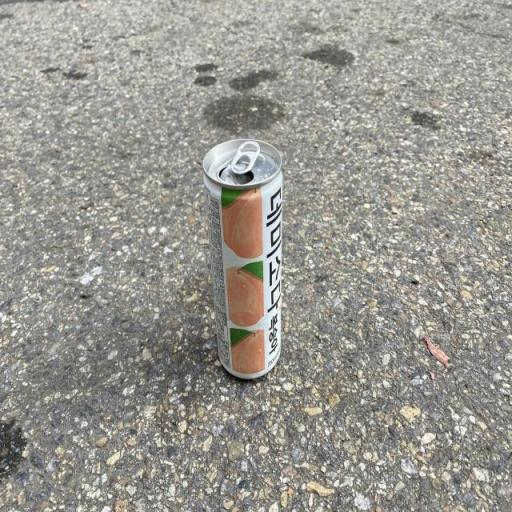metal: (164, 115, 362, 467)
